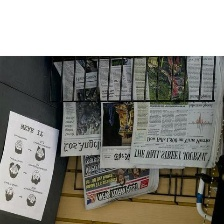news_paper: (127, 56, 223, 169), (97, 57, 182, 169), (51, 57, 122, 160), (77, 148, 164, 214)
